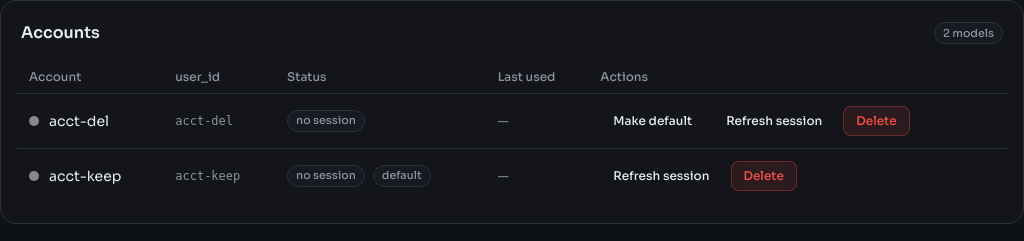
AccountsTable delete — full per-account cache eviction › hard-removes every per-account query for the dropped account and spares others
Click the 1st button "Delete".
click(876, 121)  # box [843, 106, 910, 136]
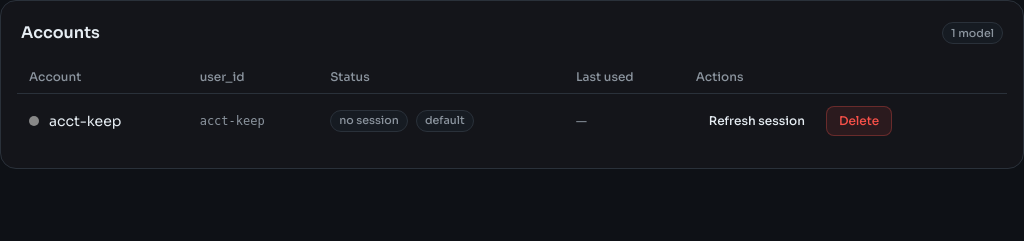
Expected: the button "acct-del" is gone
